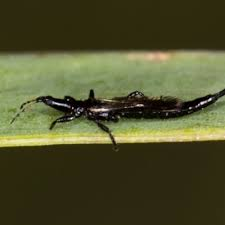Phlaeothripidae: (11, 88, 225, 154)
